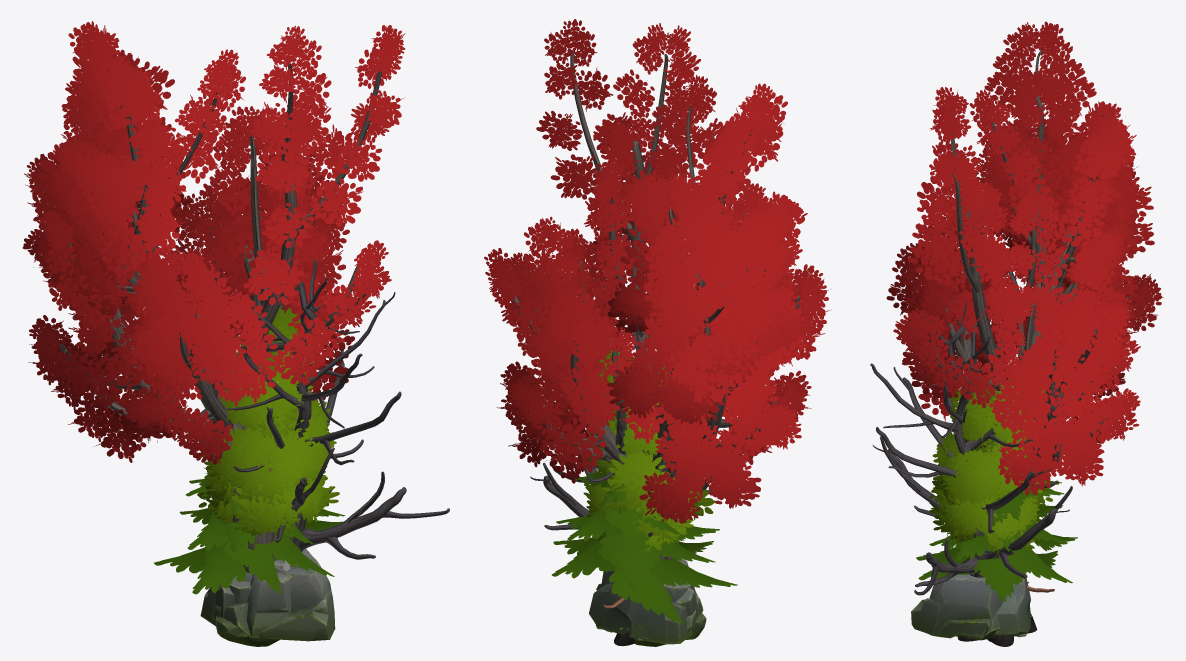
File: nature-library.glb
The picture shows the model from 3 angles, left to right: view 1: azimuth 30°, elevation 25°; view 2: azimuth 150°, elevation 25°; view 3: azimuth 270°, elevation 25°; orthographic projection. The views are drawn at different scales.
Visible parts, largest first — view 1: TwistedTree_2, DeadTree_2, CommonTree_3, Pine_2, CommonTree_1, Rock_Medium_3, Rock_Medium_1, CommonTree_5, Rock_Medium_2; view 2: TwistedTree_2, Pine_2, Rock_Medium_2, CommonTree_1, CommonTree_5, CommonTree_3, DeadTree_2, Rock_Medium_3, Rock_Medium_1; view 3: TwistedTree_2, DeadTree_2, Pine_2, CommonTree_3, Rock_Medium_3, CommonTree_1, Rock_Medium_2, CommonTree_5.
Boxes of the visible parts, <box> form: TwistedTree_2: <box>22,21,405,572</box>; DeadTree_2: <box>199,258,449,559</box>; CommonTree_3: <box>211,306,336,507</box>; Pine_2: <box>154,387,345,594</box>; CommonTree_1: <box>197,384,339,535</box>; Rock_Medium_3: <box>216,549,335,646</box>; Rock_Medium_1: <box>211,559,292,637</box>; CommonTree_5: <box>206,424,322,533</box>; Rock_Medium_2: <box>200,576,251,626</box>; TwistedTree_2: <box>484,19,831,646</box>; Pine_2: <box>552,448,737,623</box>; Rock_Medium_2: <box>589,582,692,644</box>; CommonTree_1: <box>585,414,714,543</box>; CommonTree_5: <box>593,420,699,554</box>; CommonTree_3: <box>583,343,695,526</box>; DeadTree_2: <box>530,279,712,537</box>; Rock_Medium_3: <box>596,571,706,639</box>; Rock_Medium_1: <box>603,558,703,646</box>; TwistedTree_2: <box>886,21,1163,646</box>; DeadTree_2: <box>870,300,1072,641</box>; Pine_2: <box>916,421,1077,601</box>; CommonTree_3: <box>931,366,1043,553</box>; Rock_Medium_3: <box>911,574,1010,638</box>; CommonTree_1: <box>929,436,1053,558</box>; Rock_Medium_2: <box>993,578,1030,636</box>; CommonTree_5: <box>946,450,1048,535</box>.
Bounding box in the file's own units: 11.02 × 19.08 × 9.4.
12 materials, 12 textured.
